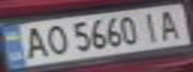0: (118, 12, 142, 46)
5: (69, 18, 93, 53)
6: (87, 16, 109, 51), (106, 16, 127, 48)
A: (18, 25, 51, 61), (154, 7, 187, 40)
I: (136, 10, 166, 43)
O: (39, 22, 69, 56)
